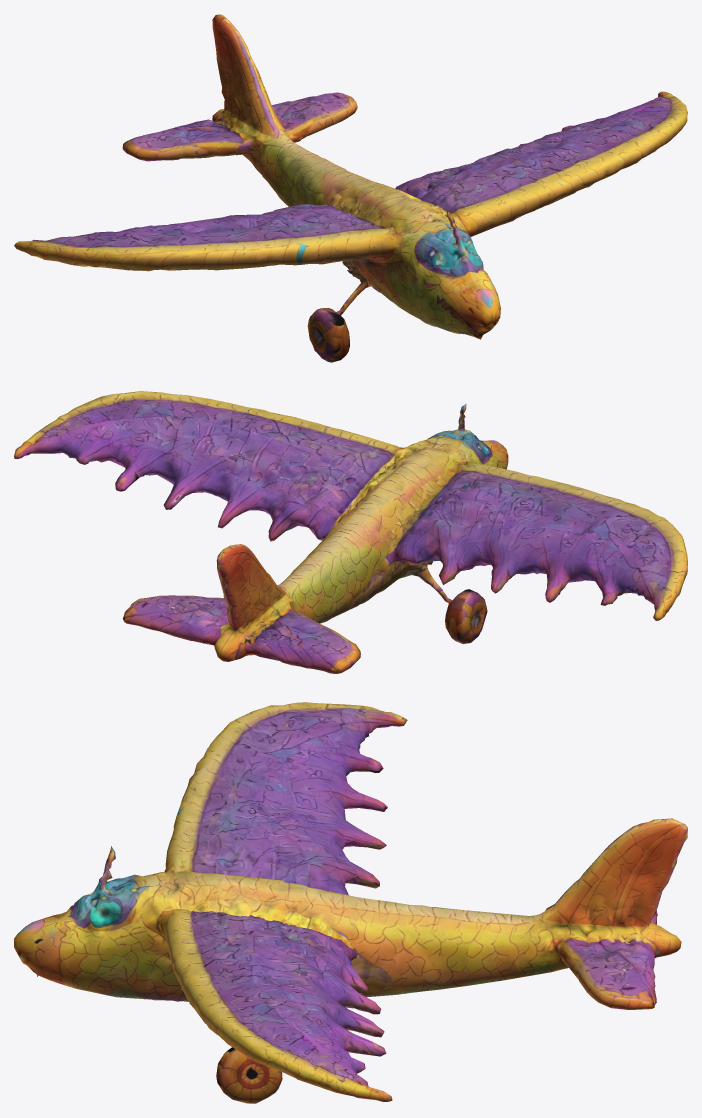
The model's file is dragonMonster.fbx.
The picture shows the model from 3 angles, top to bottom: view 1: azimuth 30°, elevation 25°; view 2: azimuth 150°, elevation 25°; view 3: azimuth 270°, elevation 25°; orthographic projection. The views are drawn at different scales.
Parts seen in each view (by area): view 1: Mesh_0; view 2: Mesh_0; view 3: Mesh_0.
Part boxes in pixels (x1,y1,x2,y2): Mesh_0: (14,14,687,362); Mesh_0: (14,391,687,673); Mesh_0: (14,702,687,1103).
Size of the model in its own units: 120 by 36.04 by 89.74.
Materials: 1 (1 with a texture image).
